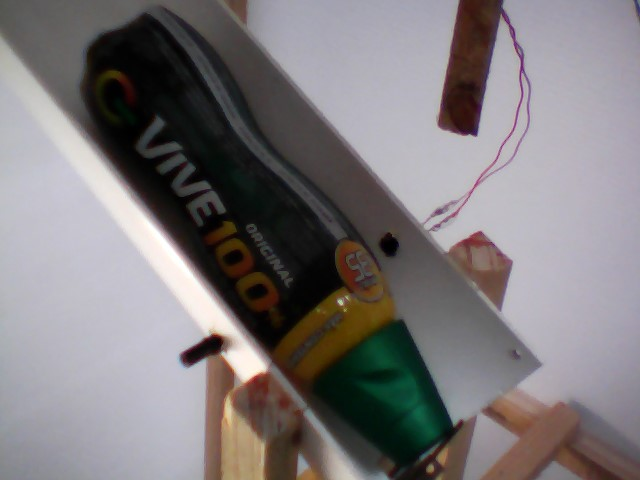plastico: (70, 2, 461, 464)
